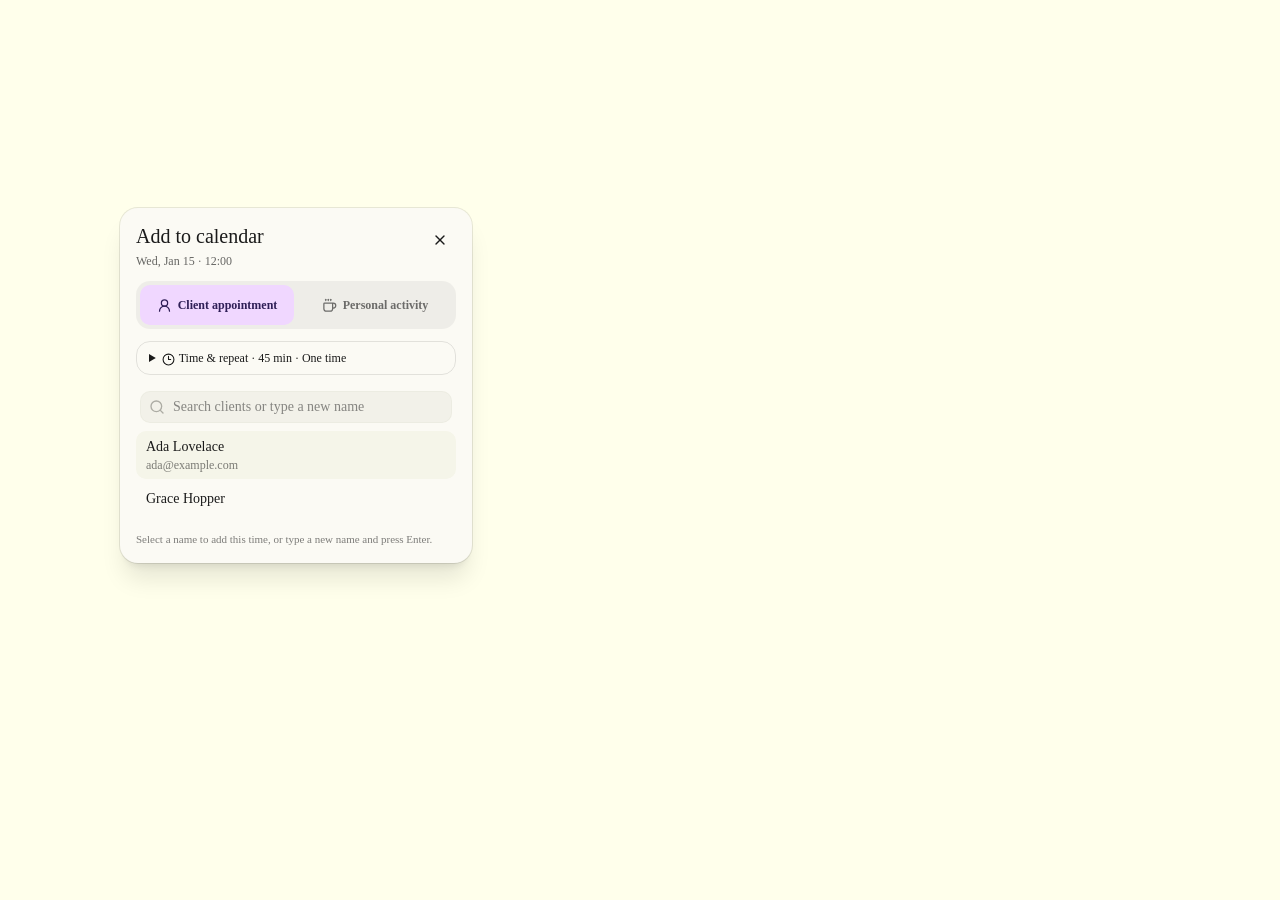
Test: calendar creation popover › validates a past session before creating any student
The width and height of the screenshot is (1280, 900).
Expected: the option "Ada Lovelace ada@example.com" is shown, [136,431,456,479]
Step 1. Type "New Student" into the dropdown labelled "Search clients or type a new name" → (308, 407), box [165,397,451,417]
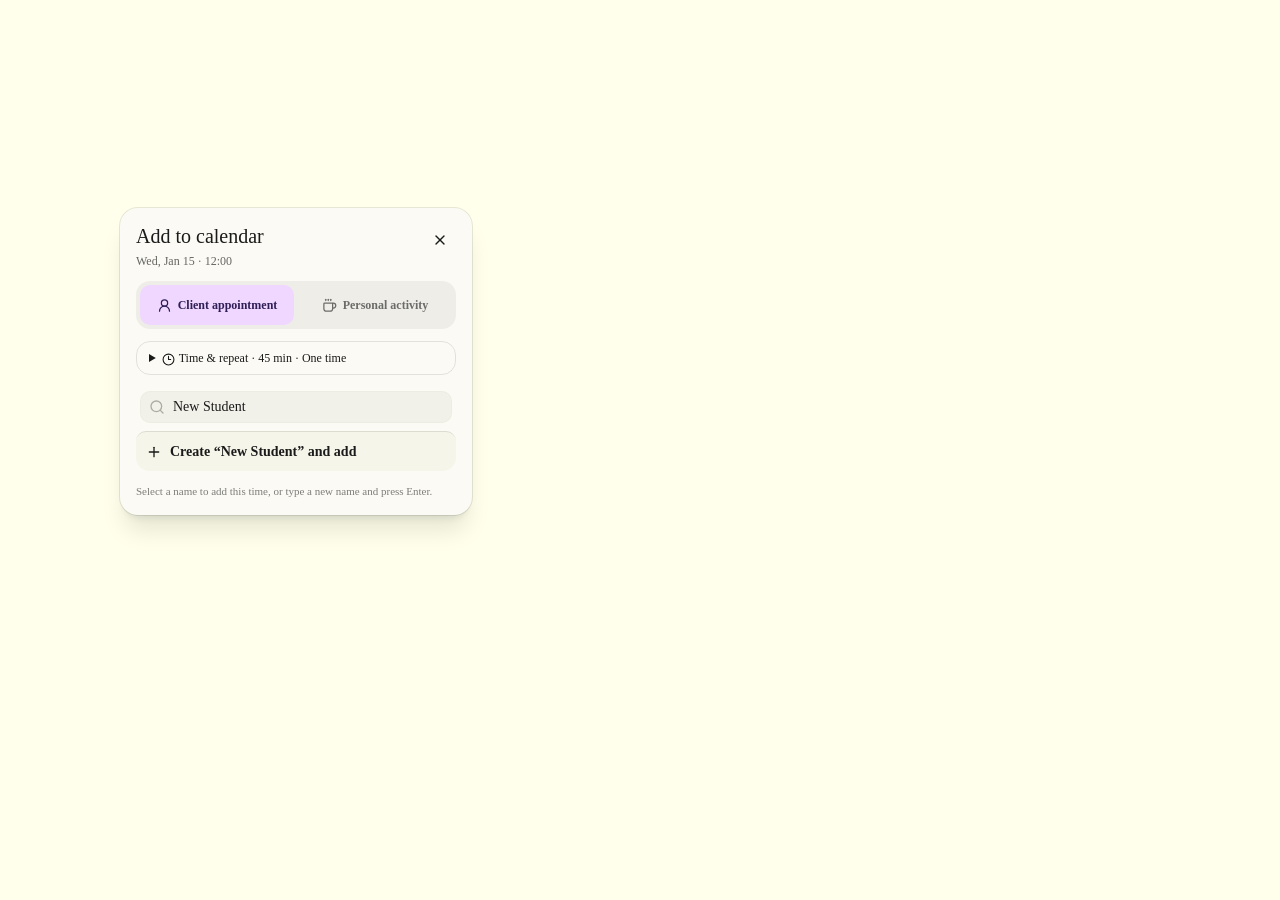
Step 2. Press Enter
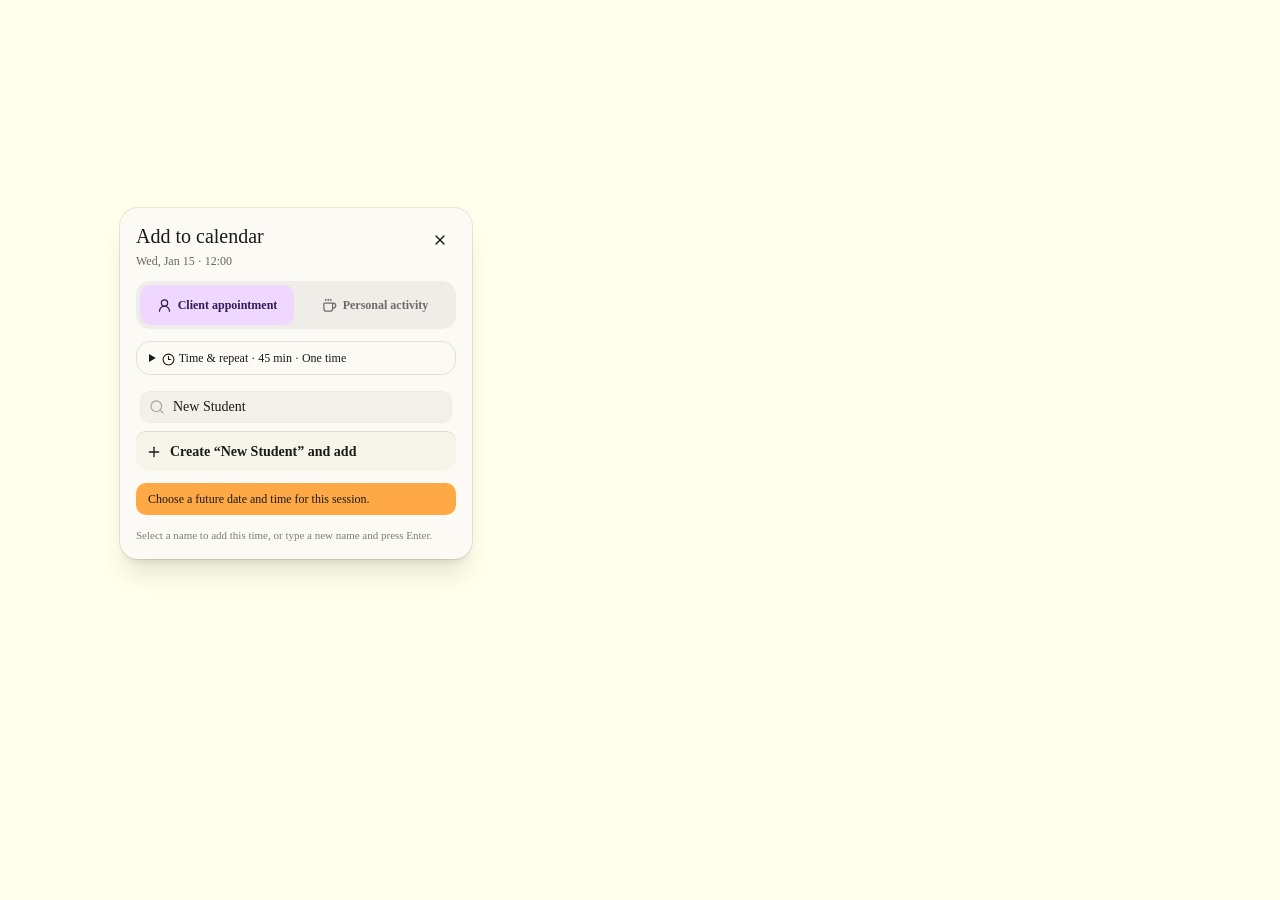
Expected: the message reads "Choose a future date and time for this session.", [148,492,370,506]
